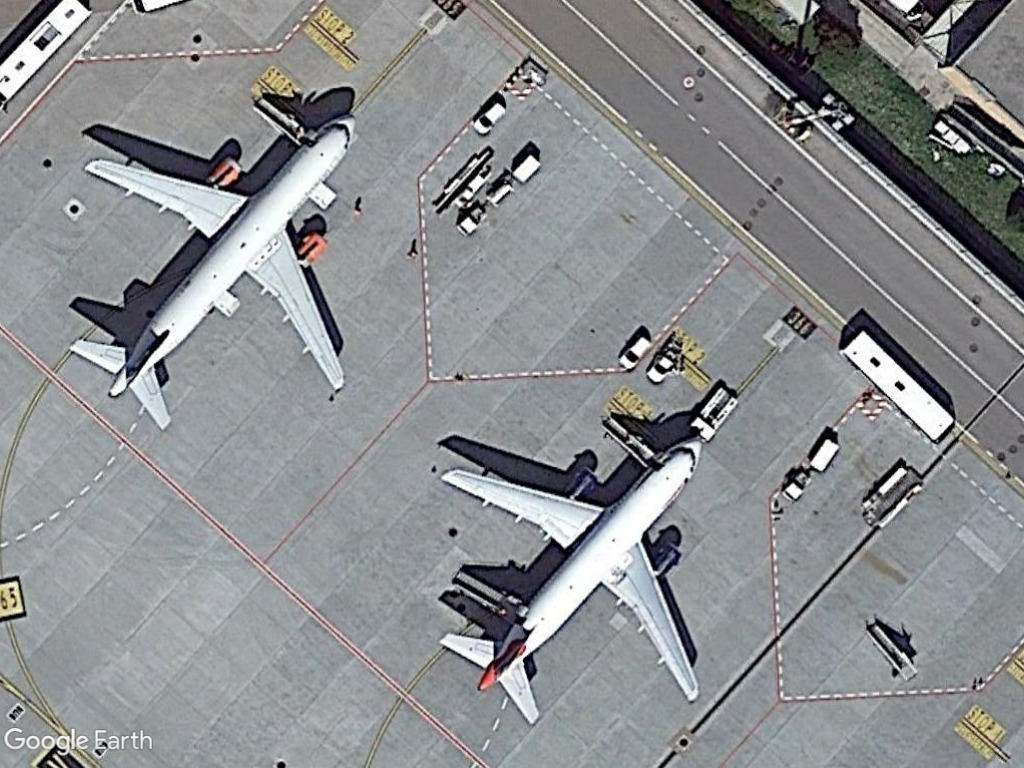airliner: (59, 103, 363, 434), (420, 433, 718, 726)
bus: (838, 320, 959, 446)
pushbacktruck: (688, 386, 747, 443)
stairtruck: (863, 618, 921, 683), (248, 91, 312, 146)
van: (469, 98, 509, 141), (613, 336, 656, 376)
